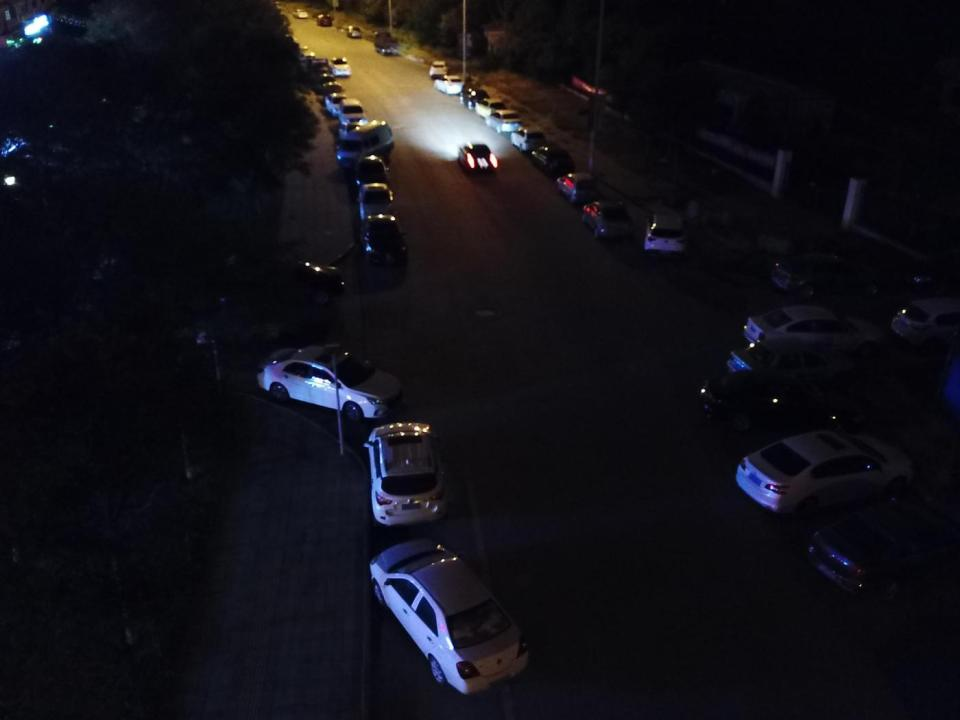car: (364, 531, 531, 692), (727, 426, 919, 512), (801, 496, 959, 600), (697, 368, 877, 445), (256, 343, 406, 422), (360, 420, 454, 529), (194, 250, 348, 307), (740, 300, 888, 358), (725, 336, 854, 391), (762, 252, 890, 307), (644, 204, 700, 264), (359, 210, 410, 269), (578, 198, 638, 242), (555, 169, 606, 206), (530, 142, 577, 178), (458, 139, 500, 176), (360, 182, 397, 223), (354, 154, 393, 192), (512, 125, 548, 155), (472, 95, 510, 121), (458, 83, 493, 111), (486, 110, 525, 135), (337, 98, 366, 126), (324, 91, 352, 118), (435, 73, 466, 97), (429, 56, 450, 82), (337, 121, 363, 141), (329, 55, 352, 77), (320, 73, 340, 94), (344, 24, 362, 38), (316, 12, 333, 26), (293, 6, 308, 19)
truck: (373, 30, 400, 56)
van: (336, 120, 395, 167)
